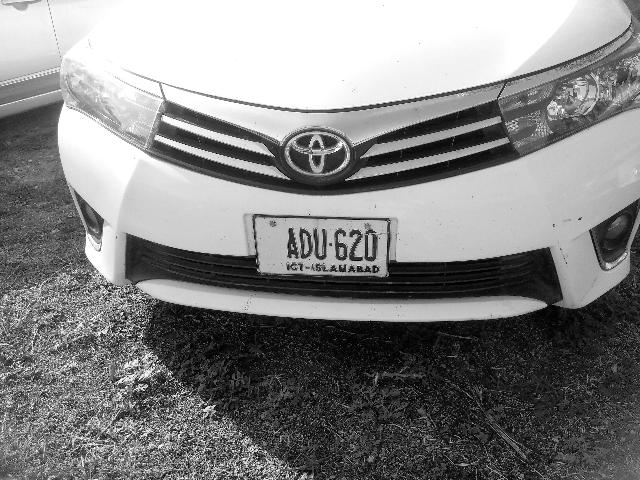Number: (281, 226, 384, 262)
